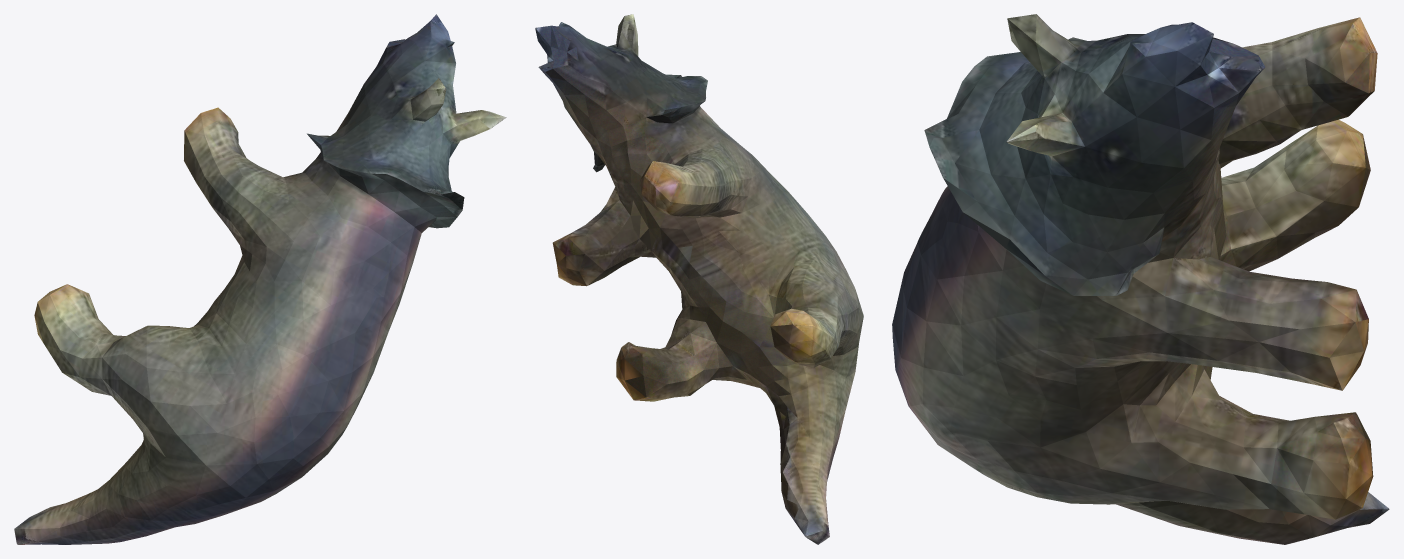
The model's file is triceratops1Text.obj.
3 views of the same model, side by side, from view 1: azimuth 30°, elevation 25°; view 2: azimuth 150°, elevation 25°; view 3: azimuth 270°, elevation 25° (orthographic). The views are drawn at different scales.
Size of the model in its own units: 23.23 by 27.06 by 15.35.
1 material, 1 textured.
